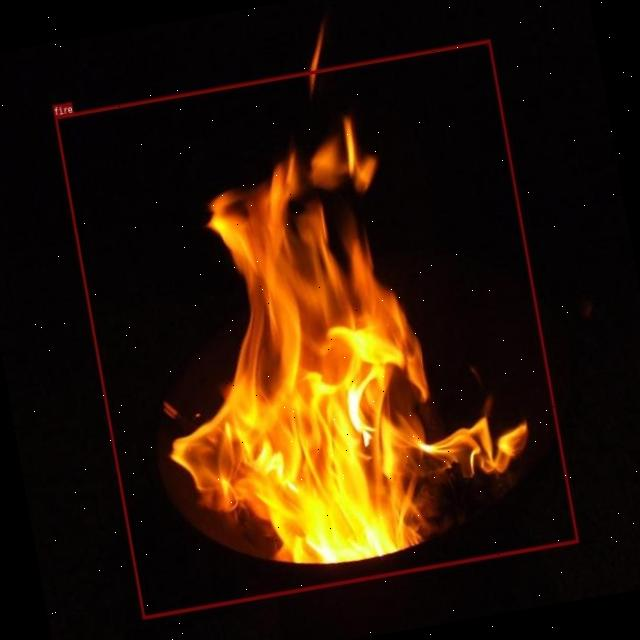fire: (54, 39, 578, 618)
